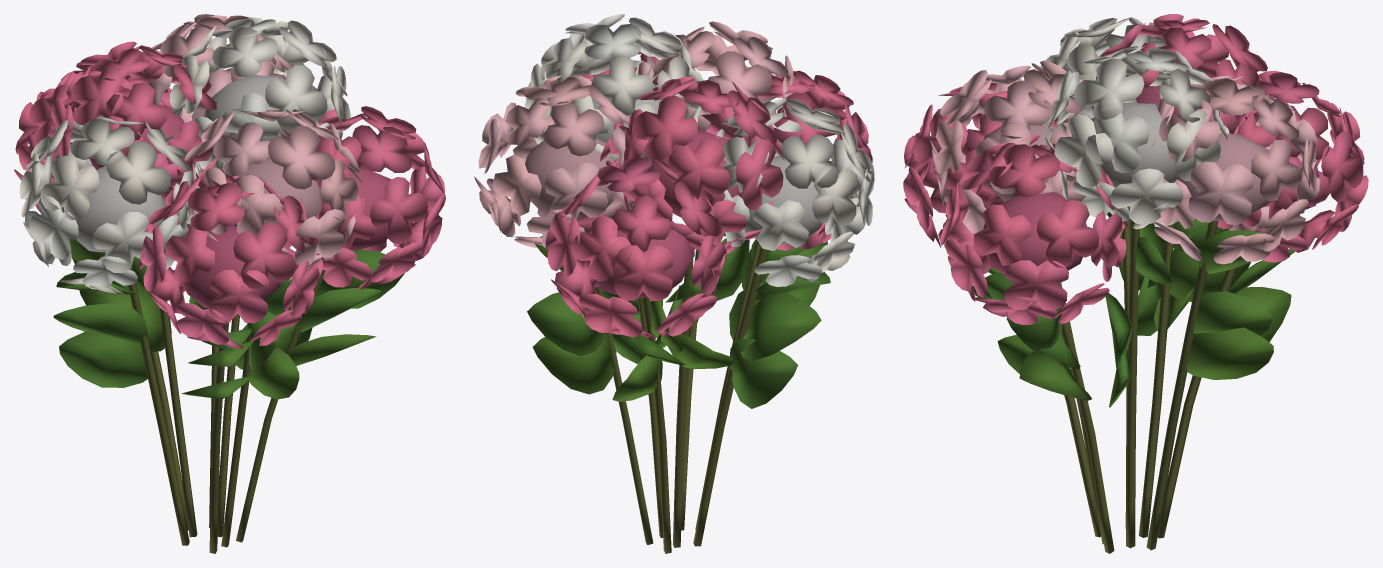
The model's file is bucket_hydrangea_pink.glb.
3 views of the same model, side by side, from view 1: azimuth 30°, elevation 25°; view 2: azimuth 150°, elevation 25°; view 3: azimuth 270°, elevation 25° (orthographic). The views are drawn at different scales.
Parts seen in each view (by area): view 1: Sammel Pflanze, Sammel Putz; view 2: Sammel Pflanze, Sammel Putz; view 3: Sammel Pflanze, Sammel Putz.
Part boxes in pixels (x1,y1,x2,y2): Sammel Pflanze: (14,14,445,399); Sammel Putz: (128,165,325,553); Sammel Pflanze: (474,14,874,408); Sammel Putz: (595,240,768,553); Sammel Pflanze: (903,14,1368,407); Sammel Putz: (1058,206,1237,553).
Bounding box in the file's own units: 0.3903 × 0.5149 × 0.4214.
